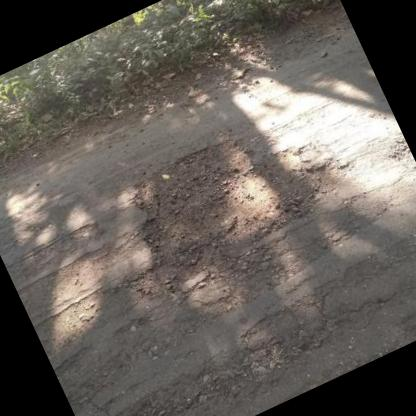pothole: (106, 96, 362, 306)
